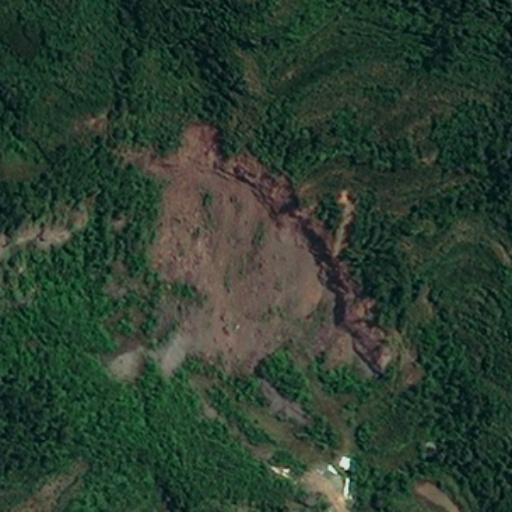landslide: (150, 128, 345, 365)
